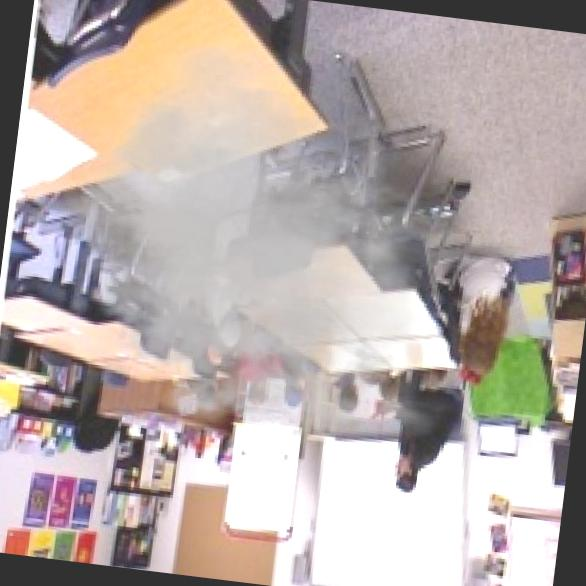smoke: (23, 10, 496, 476)
